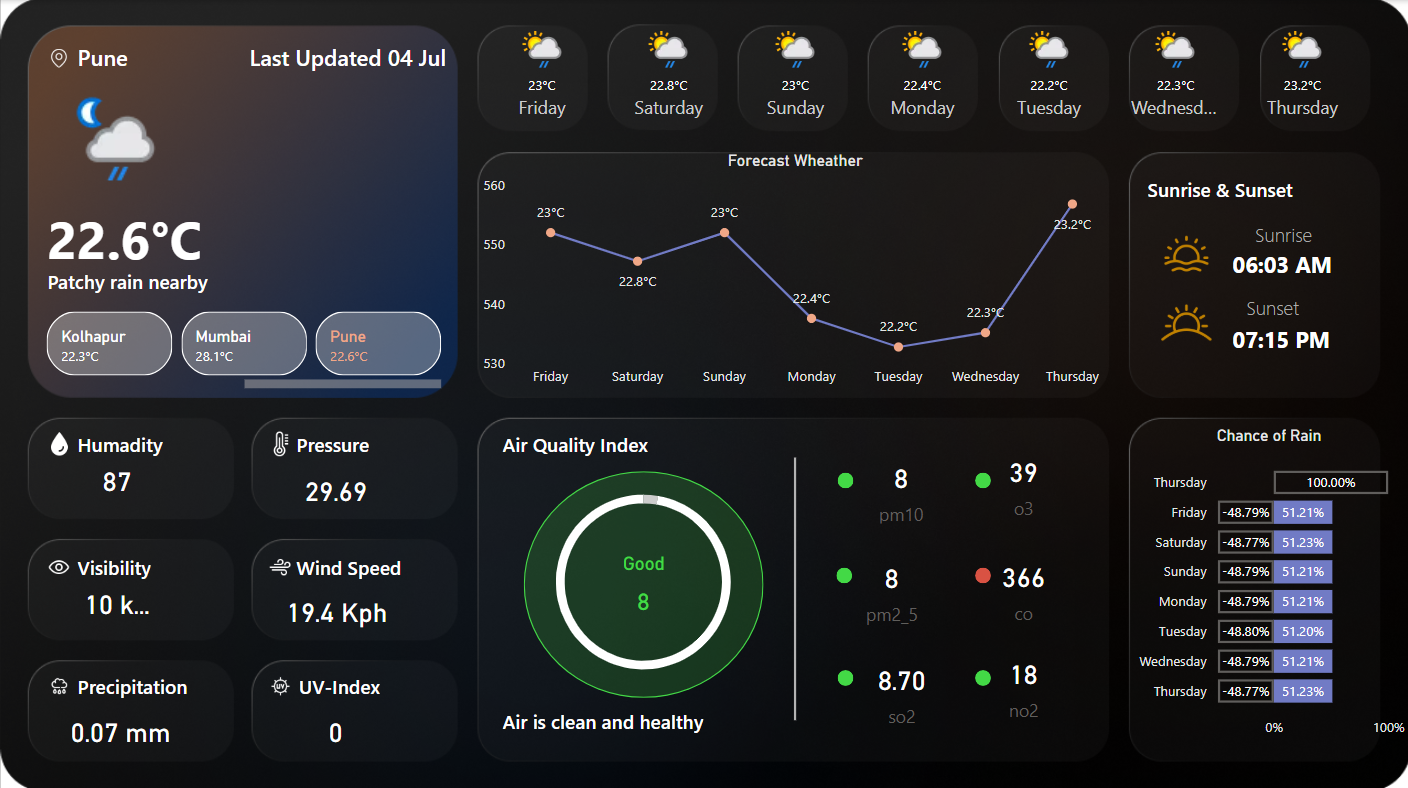

The page's visual inventory and layout, read from the dashboard file:
{"tool":"powerbi","page":{"name":"Dashboard","canvas":[1280,720],"ordinal":0},"visuals":[{"type":"shape","box":[474.9,427.1,217.5,205.6],"z":0},{"type":"advancedSlicerVisual","fields":{"Values":["location.location.name"]},"box":[36,278.1,369.1,81.5],"z":1000},{"type":"shape","box":[42.6,175.5,169,80],"z":2000},{"type":"shape","box":[42.6,232.3,158.7,45.2],"z":3000},{"type":"shape","box":[197.8,31.2,207.3,43.1],"z":4000},{"type":"shape","box":[70.7,30,88.7,44.3],"z":5000},{"type":"image","box":[36,39.6,34.8,26.4],"z":6000},{"type":"cardVisual","fields":{"Data":["Min(current.current.condition.icon)"]},"box":[42.6,65.8,139.4,121.3],"z":7000},{"type":"image","box":[36,387,34.7,32.2],"z":8000},{"type":"shape","box":[70.7,387,114.1,32.2],"z":9000},{"type":"image","box":[36,498.6,34.7,31],"z":10000},{"type":"shape","box":[70.7,498.6,114.1,31],"z":11000},{"type":"image","box":[238.1,387,33.5,32.2],"z":12000},{"type":"shape","box":[269.1,387,85.6,32.2],"z":13000},{"type":"shape","box":[269.1,498.6,104.2,31],"z":14000},{"type":"shape","box":[70.7,609,114.1,27.3],"z":15000},{"type":"shape","box":[271.6,609,83.1,27.3],"z":16000},{"type":"image","box":[239.4,498.6,29.8,31],"z":17000},{"type":"image","box":[239.4,609,29.8,27.3],"z":18000},{"type":"image","box":[36,609,34.7,27.3],"z":19000},{"type":"card","fields":{"Values":["Sum(current.current.humidity)"]},"box":[71,402.6,69.7,68.4],"z":20000},{"type":"card","fields":{"Values":["Sum(current.current.pressure_in)"]},"box":[254.2,419.4,101.9,51.6],"z":21000},{"type":"card","fields":{"Values":["_Measures.Wind_Speed"]},"box":[238.7,529,135.5,52.9],"z":22000},{"type":"card","fields":{"Values":["_Measures.Visibility"]},"box":[71,513.5,69.7,68.4],"z":23000},{"type":"card","fields":{"Values":["Sum(current.current.uv)"]},"box":[255.5,636.1,99.4,55.5],"z":24000},{"type":"card","fields":{"Values":["_Measures.Precipition"]},"box":[42.6,636.1,132.9,55.5],"z":25000},{"type":"advancedSlicerVisual","fields":{"Values":["Forcast Day.Day_Name"]},"box":[432.9,16,813.8,110.6],"z":26000},{"type":"lineChart","title":"Forecast Wheather","fields":{"Y":["Sum(Forcast Day.forecast.forecastday.day.avgtemp_c)"],"Category":["Forcast Day.Day_Name"]},"box":[433.1,137.1,576.6,222.9],"z":27000},{"type":"shape","box":[1041.7,155,152.5,32],"z":28000},{"type":"shape","box":[1118.6,212.7,116.6,51.3],"z":29000},{"type":"shape","box":[1118.6,278,116.6,57.7],"z":30000},{"type":"shape","box":[1139.1,198.6,62.8,26.9],"z":31000},{"type":"shape","box":[1131.4,265.2,76.9,26.9],"z":32000},{"type":"image","box":[1039.1,257.5,75.6,70.5],"z":33000},{"type":"image","box":[1039.1,205,75.6,50],"z":34000},{"type":"hundredPercentStackedBarChart","title":"Chance of Rain","fields":{"Y":["Sum(Forcast Day.forecast.forecastday.day.daily_chance_of_rain)","current.Left_Value_Rain"],"Category":["Forcast Day.Day_Name"]},"box":[1023.3,386.3,256.7,291.3],"z":35000},{"type":"shape","box":[456.3,387.3,153.9,31.8],"z":36000},{"type":"card","title":"PM 10","fields":{"Values":["Sum(current.current.air_quality.pm10)"]},"box":[766.7,409.9,102.1,70.3],"z":37000},{"type":"card","title":"PM 10","fields":{"Values":["Sum(current.current.air_quality.co)"]},"box":[878.1,498.7,102.1,70.3],"z":38000},{"type":"card","title":"PM 10","fields":{"Values":["Sum(current.current.air_quality.pm2_5)"]},"box":[757.4,498.7,103.5,73],"z":39000},{"type":"card","title":"PM 10","fields":{"Values":["Sum(current.current.air_quality.o3)"]},"box":[878.1,403.2,102.1,70.3],"z":40000},{"type":"card","title":"PM 10","fields":{"Values":["Sum(current.current.air_quality.no2)"]},"box":[878.1,587.6,102.1,70.3],"z":41000},{"type":"card","title":"PM 10","fields":{"Values":["Sum(current.current.air_quality.so2)"]},"box":[766.7,591.6,103.5,71.6],"z":42000},{"type":"shape","box":[884.7,428.4,14.6,14.6],"z":43000},{"type":"shape","box":[884.7,514.7,14.6,14.6],"z":44000},{"type":"shape","box":[760,428.4,14.6,14.6],"z":45000},{"type":"shape","box":[884.7,607.5,14.6,14.6],"z":46000},{"type":"shape","box":[758.7,514.7,14.6,14.6],"z":47000},{"type":"shape","box":[760,607.5,14.6,14.6],"z":48000},{"type":"shape","box":[705.7,415.2,31.8,238.8],"z":49000},{"type":"card","fields":{"Values":["Sum(current.current.air_quality.pm10)"]},"box":[533.2,501.4,102.1,70.3],"z":50000},{"type":"donutChart","title":"PM 10","fields":{"Y":["Sum(current.current.air_quality.pm10)","_Measures.Left_value_pm10"]},"box":[444.4,424.5,278.5,208.2],"z":51000},{"type":"shape","box":[456.3,628.7,265.3,50.4],"z":52000}]}

Visuals, with their boxes in screenshot pixels (x1, y1, x2, y2), scaled from the page's 1280x720 canvas onto the 1408x788 screenshot:
shape: detection(522, 467, 762, 692)
advancedSlicerVisual - location.location.name: detection(40, 304, 446, 394)
shape: detection(47, 192, 233, 280)
shape: detection(47, 254, 221, 304)
shape: detection(218, 34, 446, 81)
shape: detection(78, 33, 175, 81)
image: detection(40, 43, 78, 72)
cardVisual - Min(current.current.condition.icon): detection(47, 72, 200, 205)
image: detection(40, 424, 78, 459)
shape: detection(78, 424, 203, 459)
image: detection(40, 546, 78, 580)
shape: detection(78, 546, 203, 580)
image: detection(262, 424, 299, 459)
shape: detection(296, 424, 390, 459)
shape: detection(296, 546, 411, 580)
shape: detection(78, 667, 203, 696)
shape: detection(299, 667, 390, 696)
image: detection(263, 546, 296, 580)
image: detection(263, 667, 296, 696)
image: detection(40, 667, 78, 696)
card - Sum(current.current.humidity): detection(78, 441, 155, 515)
card - Sum(current.current.pressure_in): detection(280, 459, 392, 515)
card - _Measures.Wind_Speed: detection(263, 579, 412, 637)
card - _Measures.Visibility: detection(78, 562, 155, 637)
card - Sum(current.current.uv): detection(281, 696, 390, 757)
card - _Measures.Precipition: detection(47, 696, 193, 757)
advancedSlicerVisual - Forcast Day.Day_Name: detection(476, 18, 1371, 139)
"Forecast Wheather" lineChart: detection(476, 150, 1111, 394)
shape: detection(1146, 170, 1314, 205)
shape: detection(1230, 233, 1359, 289)
shape: detection(1230, 304, 1359, 367)
shape: detection(1253, 217, 1322, 247)
shape: detection(1245, 290, 1329, 320)
image: detection(1143, 282, 1226, 359)
image: detection(1143, 224, 1226, 279)
"Chance of Rain" hundredPercentStackedBarChart: detection(1126, 423, 1407, 742)
shape: detection(502, 424, 671, 459)
"PM 10" card: detection(843, 449, 956, 526)
"PM 10" card: detection(966, 546, 1078, 623)
"PM 10" card: detection(833, 546, 947, 626)
"PM 10" card: detection(966, 441, 1078, 518)
"PM 10" card: detection(966, 643, 1078, 720)
"PM 10" card: detection(843, 647, 957, 726)
shape: detection(973, 469, 989, 485)
shape: detection(973, 563, 989, 579)
shape: detection(836, 469, 852, 485)
shape: detection(973, 665, 989, 681)
shape: detection(835, 563, 851, 579)
shape: detection(836, 665, 852, 681)
shape: detection(776, 454, 811, 716)
card - Sum(current.current.air_quality.pm10): detection(587, 549, 699, 626)
"PM 10" donutChart: detection(489, 465, 795, 692)
shape: detection(502, 688, 794, 743)
